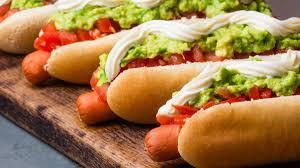Completos: (40, 13, 300, 122), (134, 54, 300, 168)
